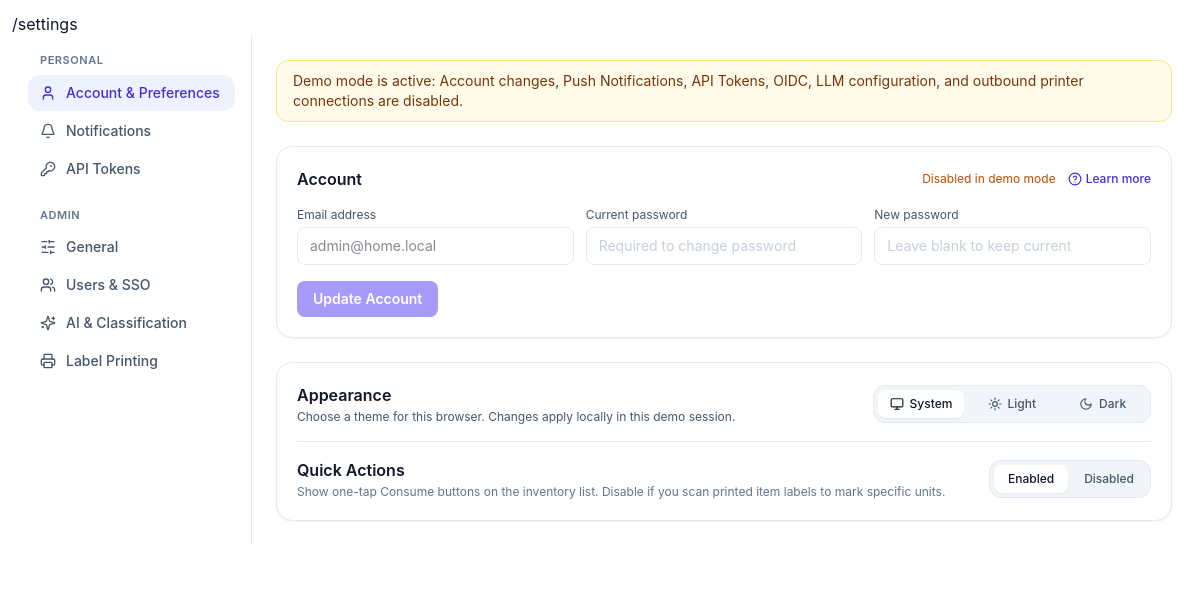
Scenario: SettingsPage role-based visibility and navigation › disables Account, OIDC, and LLM controls and shows a demo notice when demoMode is active
Expected: the text "Demo mode is active" is shown, [293,72,1084,109]
Expected: the button "Update Account" is disabled, [297,281,438,317]
Step 1. Click the button "Users & SSO" → (132, 285), box [28,267,235,303]
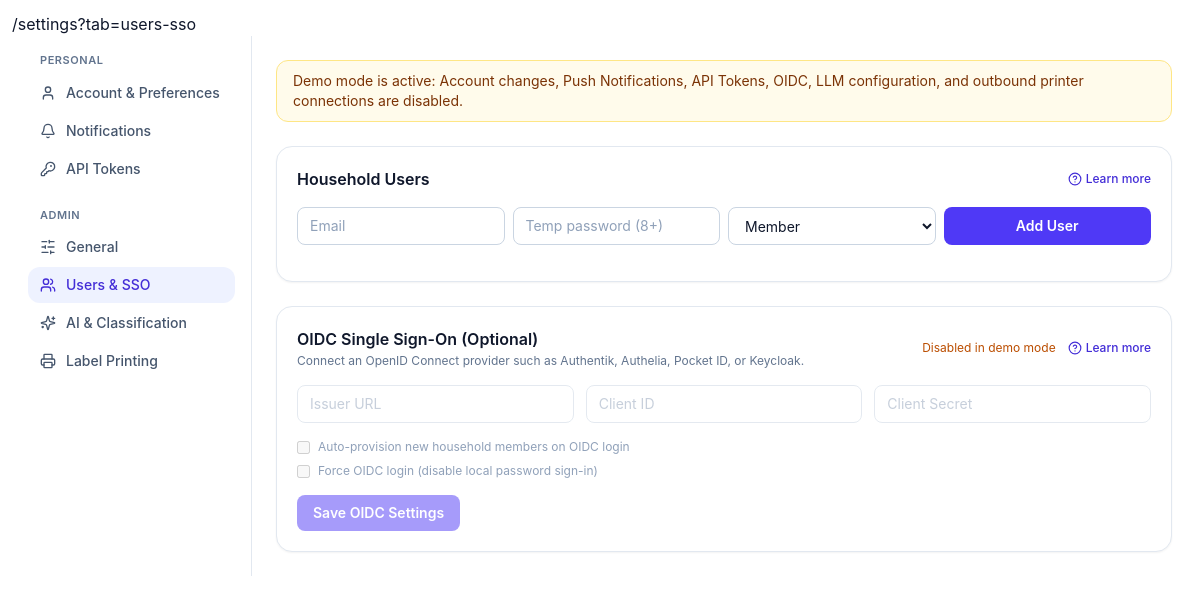
Expected: the field with placeholder "Issuer URL" is disabled, [297,385,574,423]
Expected: the field with placeholder "Client ID" is disabled, [586,385,862,423]
Step 2. Click the button "AI & Classification" → (132, 323), box [28,305,235,341]
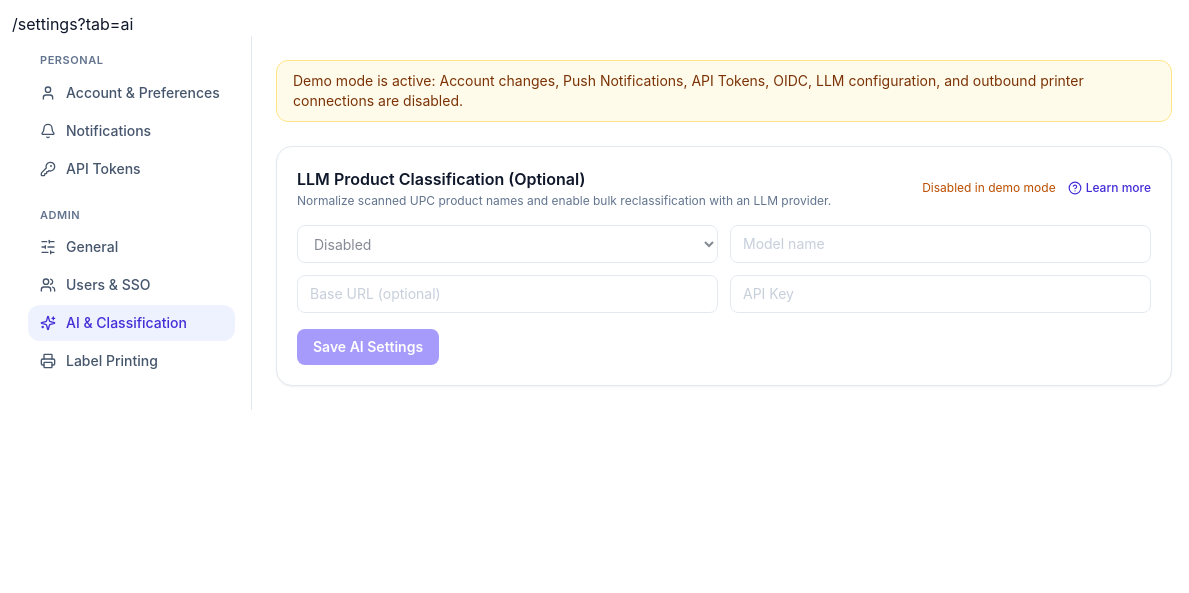
Expected: the field with placeholder "Model name" is disabled, [730,225,1151,263]
Expected: the field with placeholder "Base URL (optional)" is disabled, [297,275,718,313]
